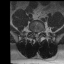CCS_stenosis: (35, 30, 37, 39)
LFS_normal: (39, 29, 41, 35)
LLS_normal: (37, 30, 39, 38)
RFS_stenosis: (31, 28, 33, 35)
RLS_normal: (34, 30, 35, 38)
